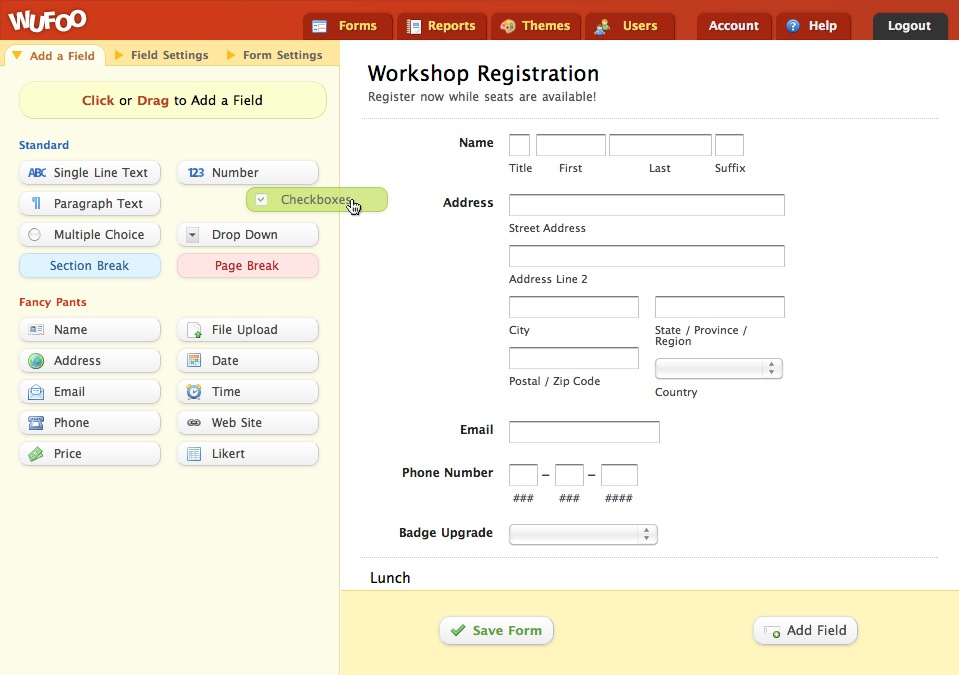BUTTON: (18, 79, 329, 119), (174, 250, 321, 279), (874, 11, 951, 41), (697, 11, 774, 40)
CHECKBOX_CHECKED: (253, 192, 269, 207)
IMAGEBUTTON_TEXT: (174, 437, 321, 469), (174, 345, 320, 377), (174, 376, 320, 406), (17, 407, 162, 437), (16, 315, 163, 344), (175, 314, 321, 343), (173, 408, 319, 437), (18, 377, 161, 406), (16, 190, 164, 218), (16, 221, 164, 249), (174, 159, 322, 187), (18, 158, 164, 186), (17, 251, 163, 279), (175, 220, 321, 248), (17, 346, 162, 374), (17, 439, 162, 467), (438, 615, 556, 646), (752, 615, 859, 646), (491, 10, 581, 39), (585, 10, 675, 38), (397, 11, 486, 38), (307, 12, 395, 37), (778, 13, 851, 40)
RADIOBUTTON_UNCLICKED: (27, 227, 42, 242)
SPINBOX: (509, 524, 658, 545)
SPINBOX_HANDLE: (638, 525, 656, 543)
TEXTBOX: (508, 244, 786, 268), (508, 193, 786, 217), (507, 419, 661, 444), (508, 295, 641, 319), (508, 346, 641, 370), (654, 295, 786, 319), (608, 133, 713, 157), (535, 133, 607, 157), (599, 462, 639, 488), (553, 463, 585, 488), (508, 463, 539, 487), (714, 133, 745, 157), (508, 133, 531, 157)
